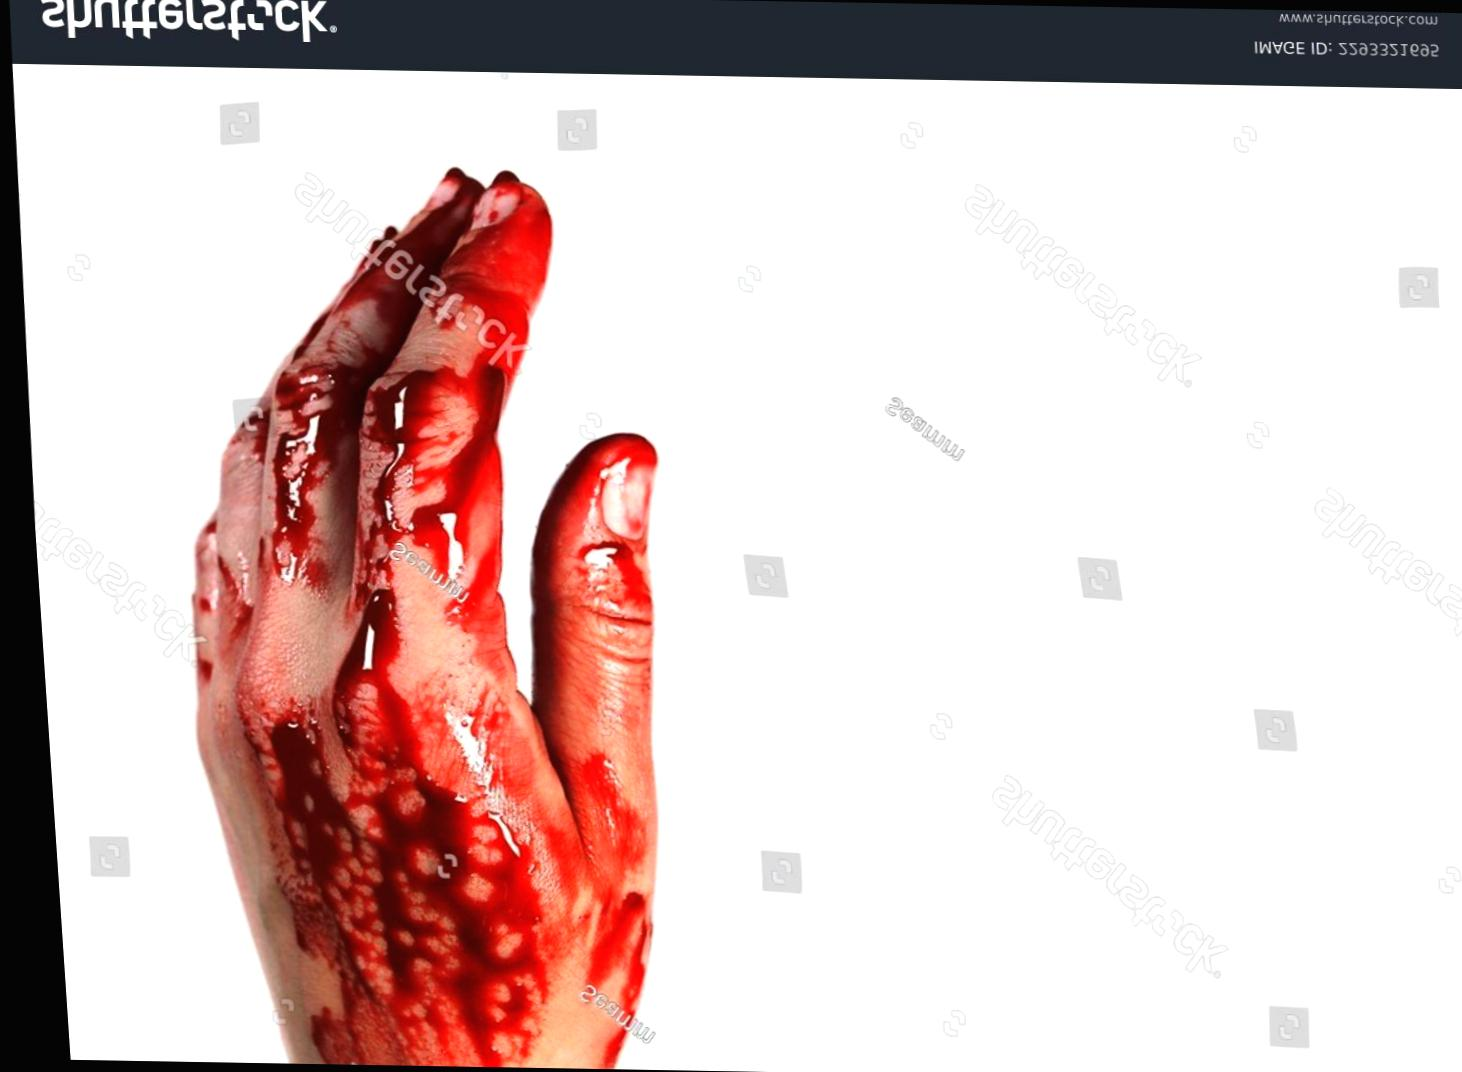Fire: (186, 170, 649, 1067)
